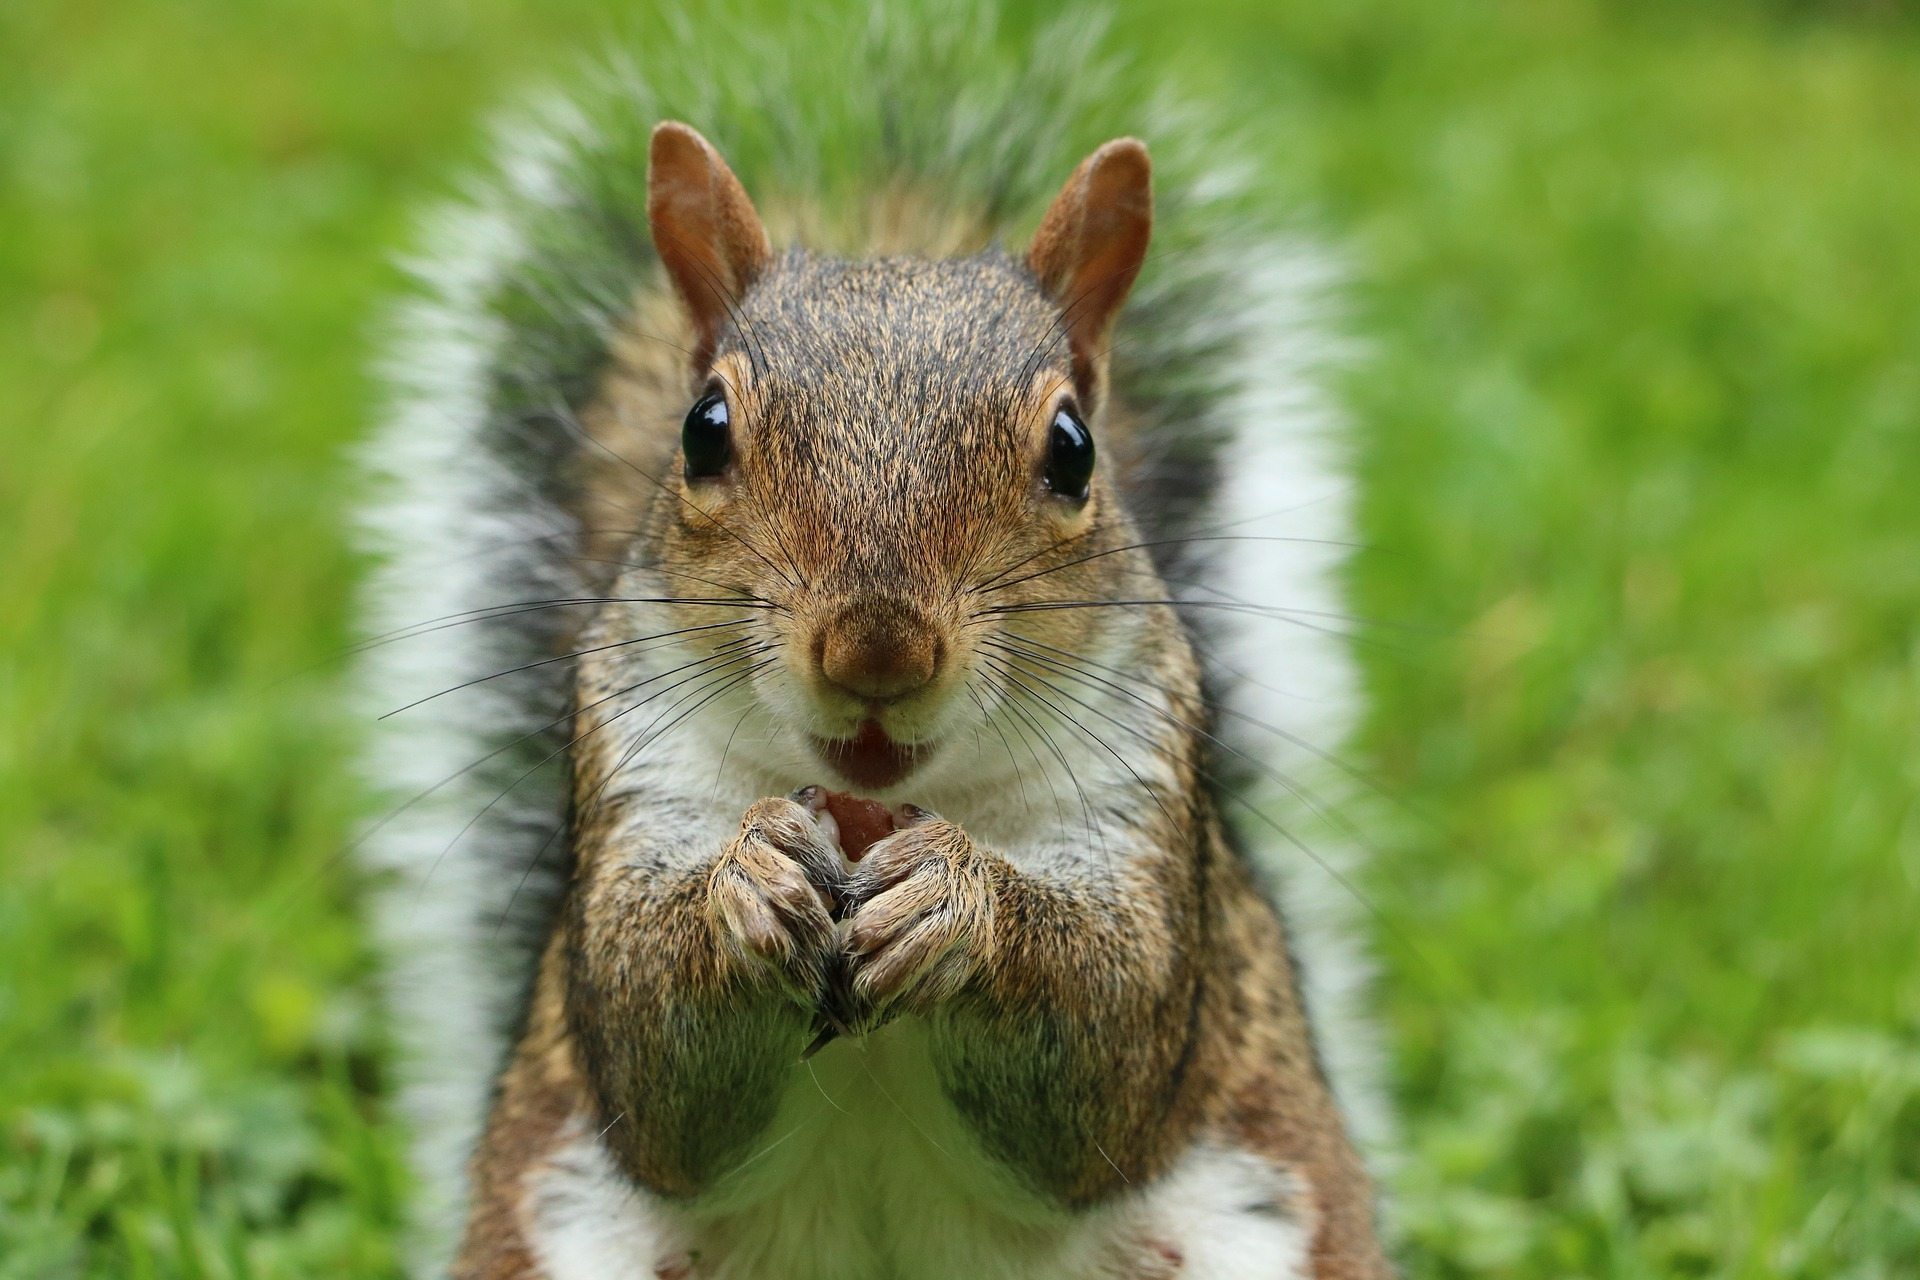squirrel: (434, 87, 1337, 1280)
